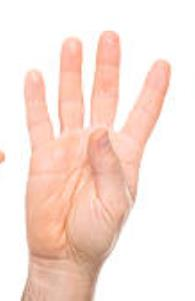right: (18, 26, 176, 263)
